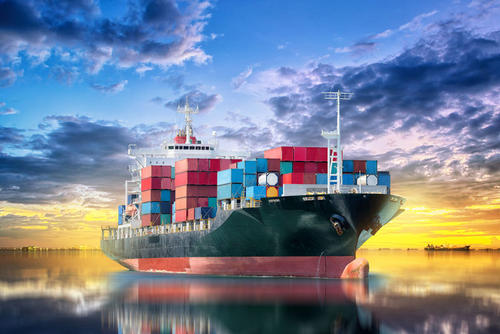Cargoship: (93, 89, 407, 277)
